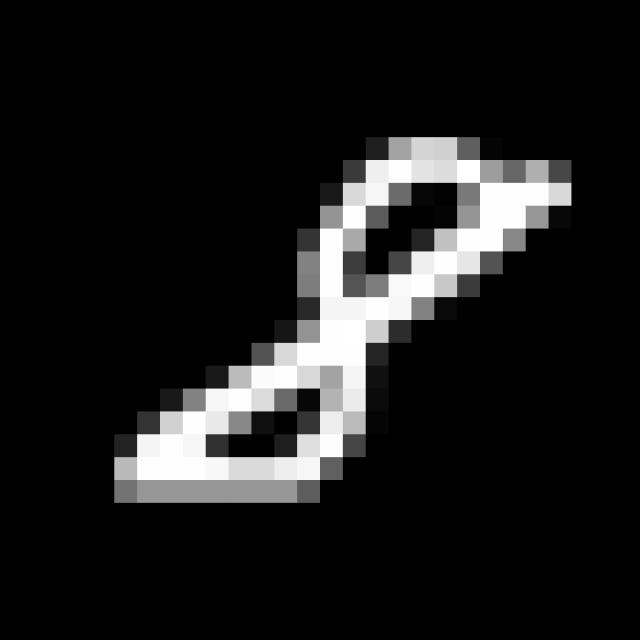eight -8-: (107, 119, 578, 526)
